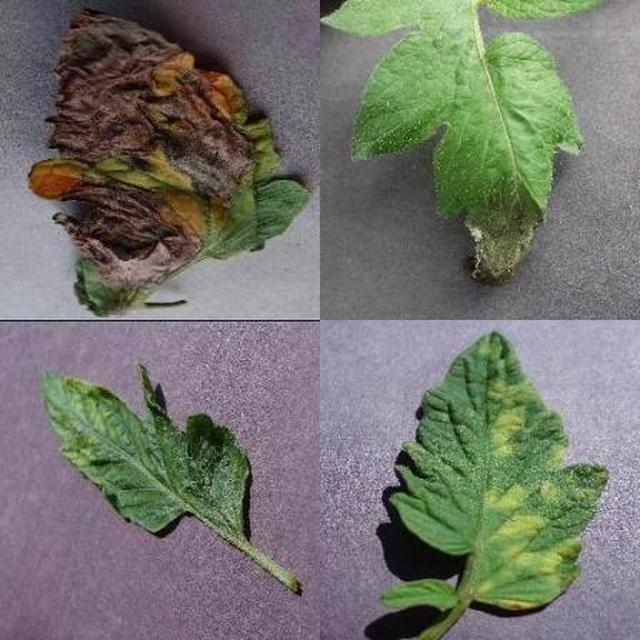Late Blight Leaf: (207, 205, 640, 640)
